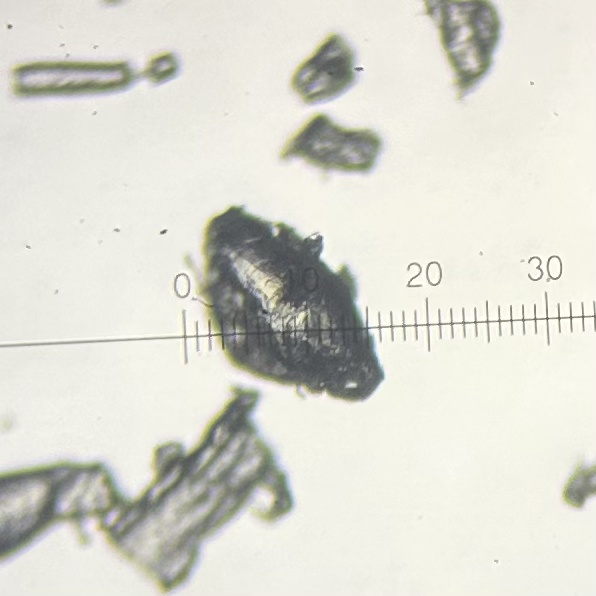microplastic: (179, 203, 391, 407), (100, 384, 297, 596), (1, 457, 129, 570), (420, 1, 504, 104), (275, 113, 383, 179), (286, 30, 360, 109), (7, 56, 137, 97), (560, 456, 596, 514), (146, 49, 182, 87)
